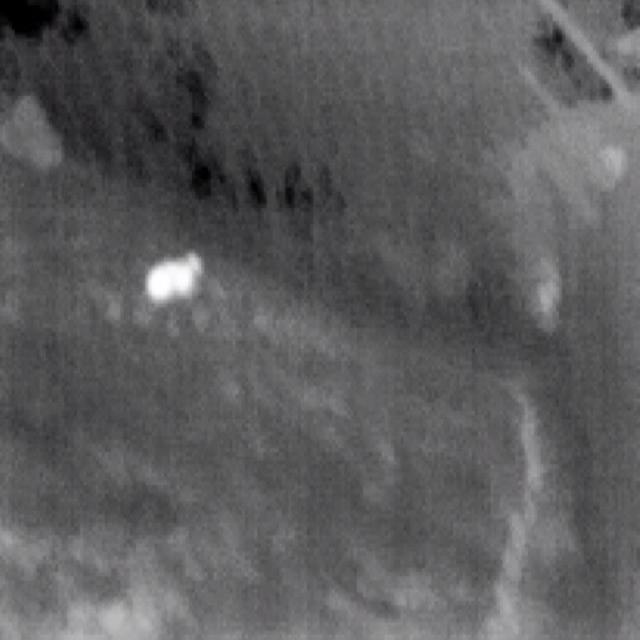cheetah: (147, 255, 203, 301)
